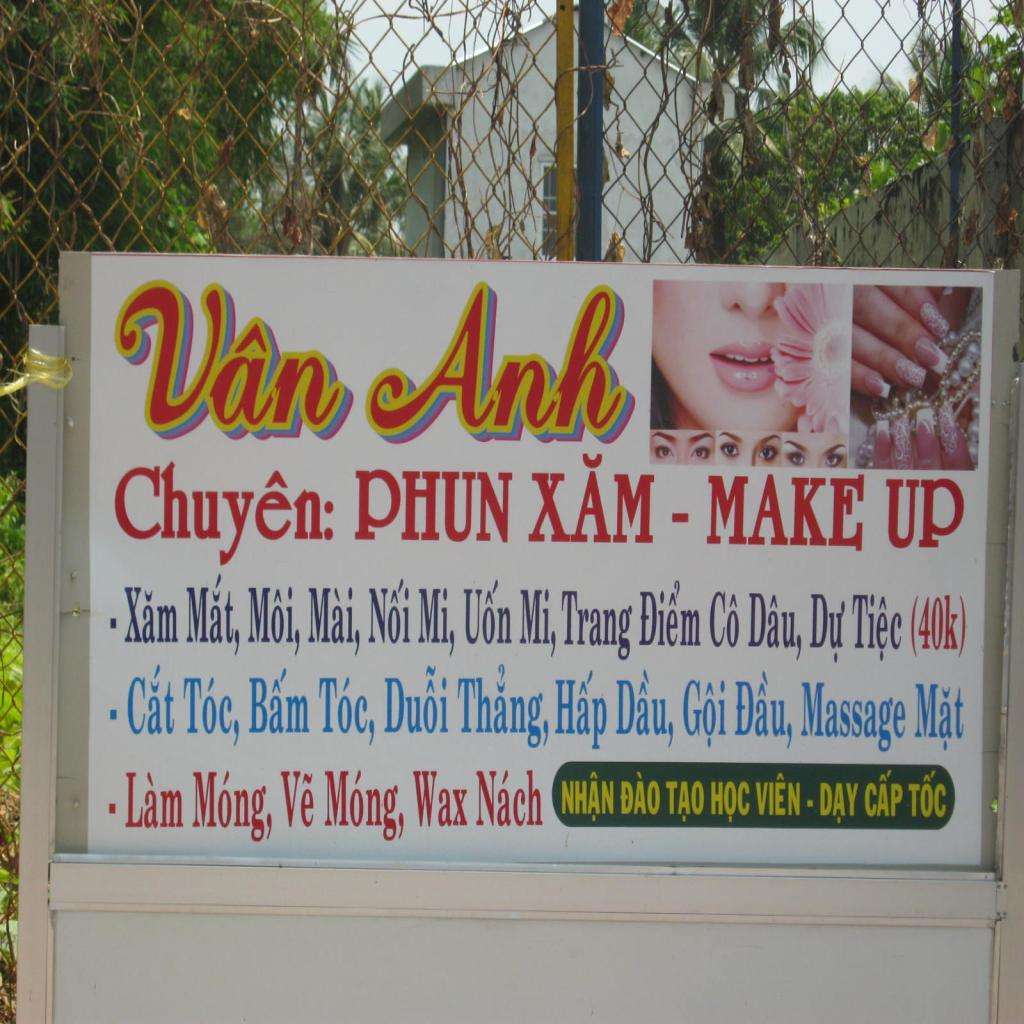text: (356, 280, 642, 444), (107, 280, 362, 442), (114, 461, 337, 567), (705, 474, 867, 554), (353, 467, 515, 546), (527, 452, 658, 546), (454, 662, 552, 748), (800, 679, 908, 757), (322, 769, 411, 843), (885, 478, 970, 550), (193, 772, 274, 842), (613, 667, 677, 750), (732, 667, 794, 752), (562, 590, 632, 664), (185, 570, 240, 658), (382, 664, 449, 736), (638, 574, 702, 648), (246, 664, 311, 735), (556, 668, 608, 754), (318, 672, 378, 746), (182, 675, 242, 748), (746, 591, 804, 663), (851, 590, 905, 666), (476, 768, 544, 828), (247, 584, 302, 658), (307, 586, 362, 660), (681, 672, 728, 756), (910, 595, 967, 662), (914, 683, 966, 755), (124, 664, 176, 735), (124, 772, 186, 831), (124, 586, 181, 645), (412, 769, 469, 828), (464, 580, 514, 645), (367, 578, 412, 647), (417, 587, 456, 662), (561, 772, 616, 824), (809, 592, 847, 666), (519, 587, 557, 656), (754, 770, 801, 818), (281, 771, 316, 832), (864, 769, 905, 818), (619, 770, 663, 815), (709, 779, 751, 825), (818, 782, 861, 826), (709, 590, 741, 648), (665, 778, 705, 823)
